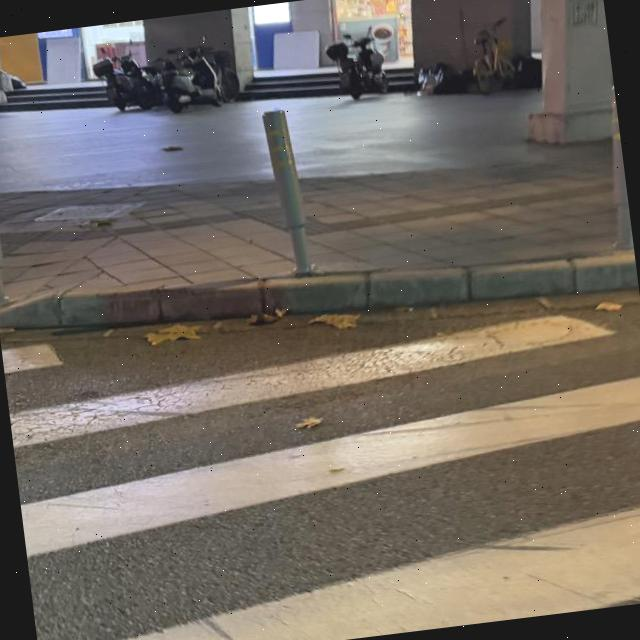curb: (0, 251, 637, 328)
